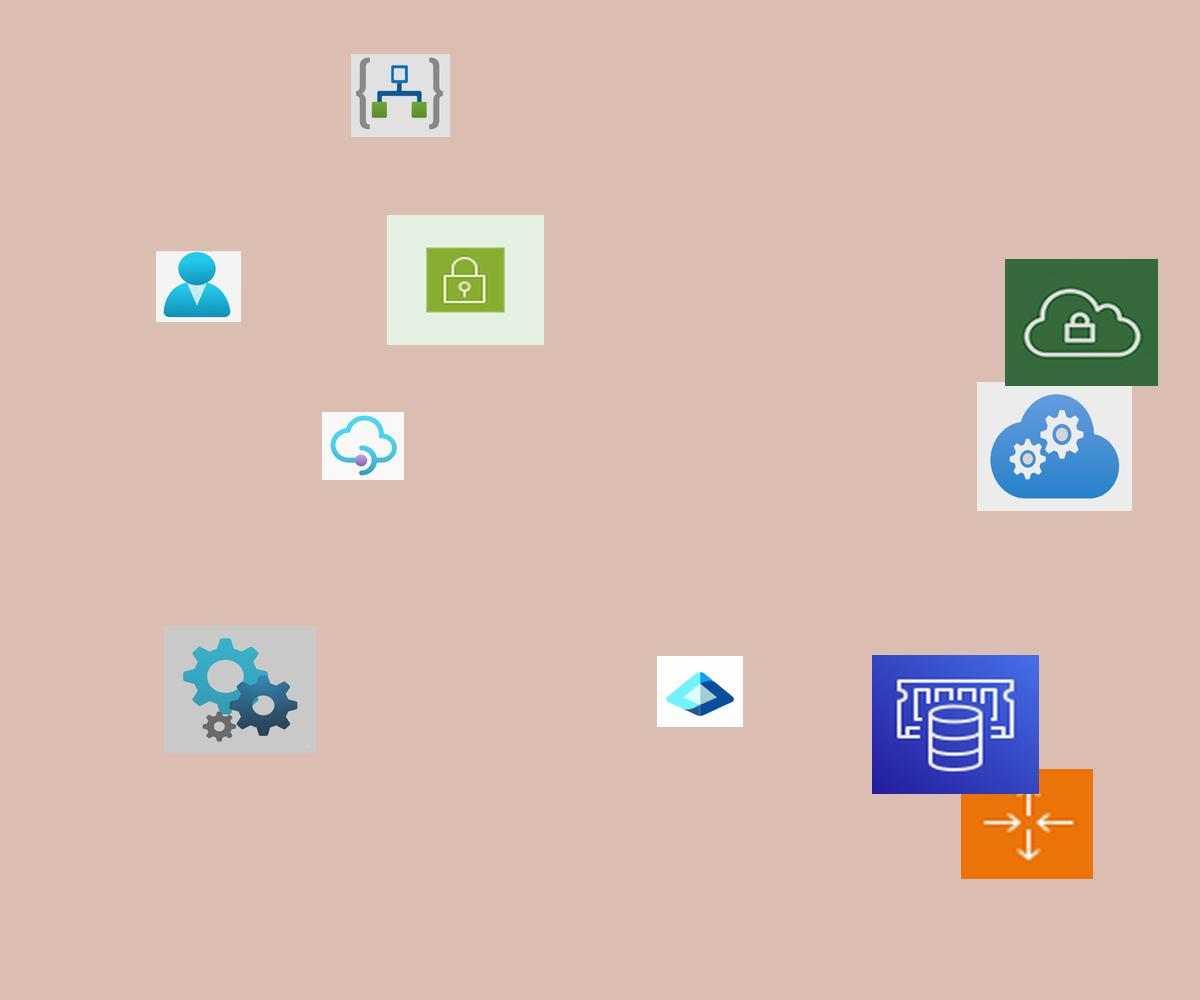AWS-ElastiCache: (872, 655, 1039, 794)
AWS-Private_vpc: (1005, 259, 1158, 386)
AWS-Public-subnet: (387, 215, 544, 345)
AWS-Scaling-group: (961, 769, 1093, 879)
Azure_api: (164, 626, 316, 753)
Azure_api_gateway: (322, 412, 404, 480)
Azure_cloud_services: (977, 382, 1132, 511)
Azure_integration-204-Logic-Apps: (351, 54, 450, 137)
Azure_microsoft_entra: (657, 656, 743, 727)
Azure_users: (156, 251, 241, 322)
